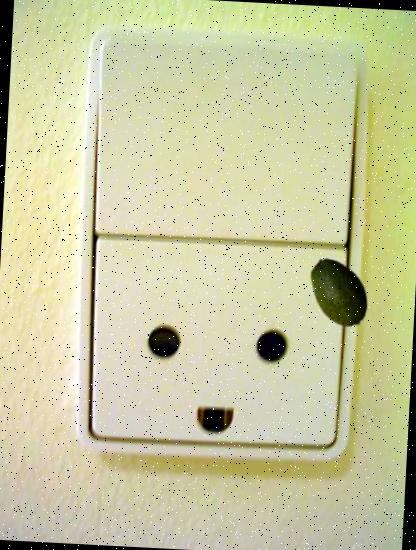Avocado: (300, 252, 380, 332)
